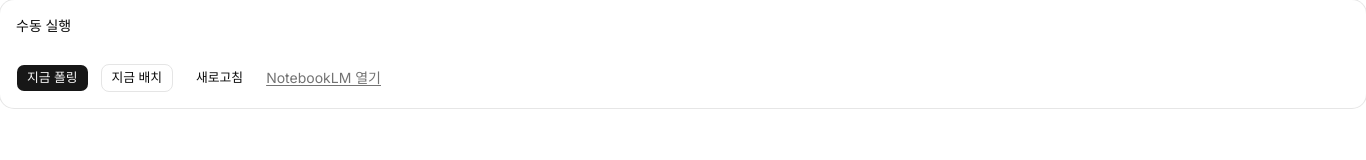
Test case: TriggerPanel › poll 버튼 클릭 직후 disabled + 로딩 텍스트
Click the button "지금 폴링" at {"x": 52, "y": 78}, box [16,64,88,92]
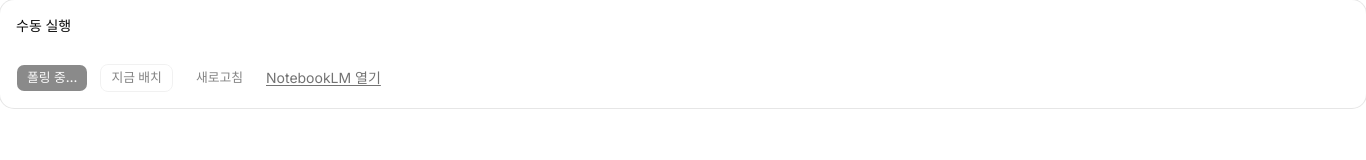
Check: the button "폴링 중…" is disabled, box [16,64,88,92]
